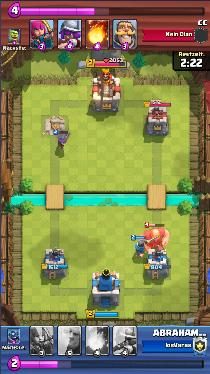ally_knight: (134, 239, 148, 258)
ally_musketeer: (55, 132, 70, 149)
enemy_giant: (138, 227, 170, 251)
